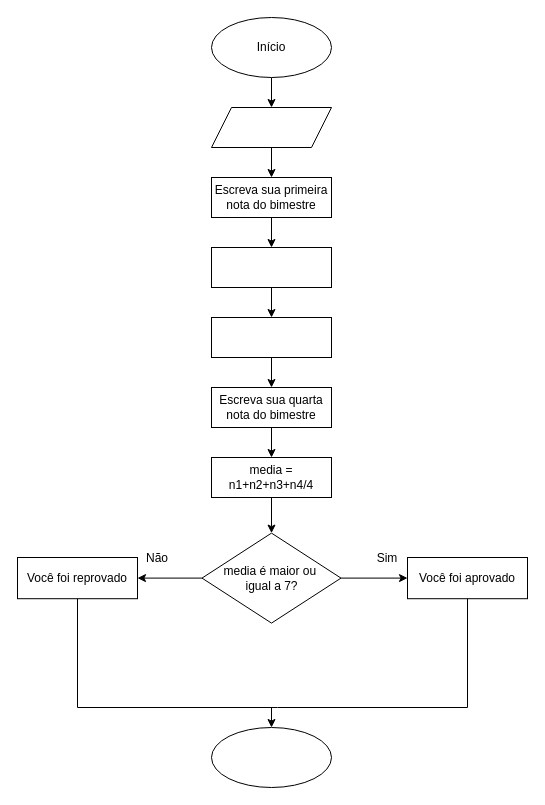
Some shapes in this 545 by 805 pixel diagram are drawn without their labels. The shapes that lost their labels are listed below. From the top down, each one's centre as x and y in pixels, then its label:
the point at 271,127: n1, n2, n3, n4, media
the point at 271,267: Escreva sua segunda nota do bimestre
the point at 271,337: Escreva sua terceira nota do bimestre
the point at 271,757: Fim
